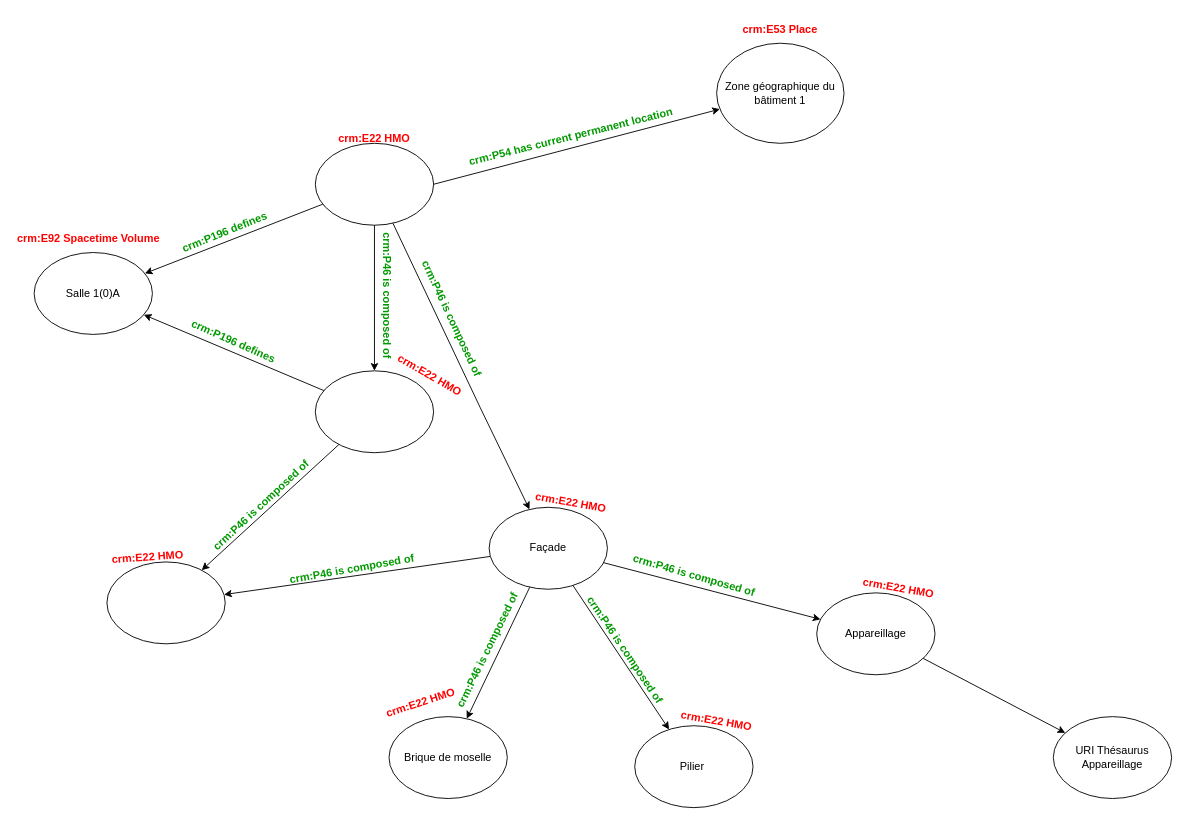
This 1188x824 diagram has some shape labels left out. The shapes that lost their labels are listed below. From the top down, each one's box as (x1, y1, x2, y2) in pixels, then its label:
(314, 142, 434, 225): Bâtiment 1
(314, 370, 434, 453): Mur 1(0)A1
(106, 561, 225, 644): Remplissage en béton
